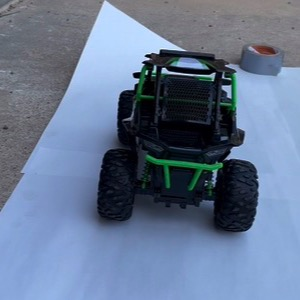polaris: (95, 48, 261, 233)
